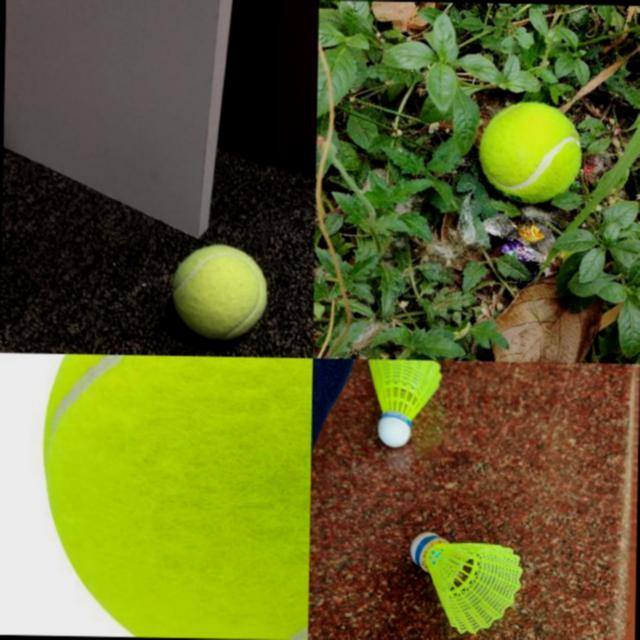Tennis Ball: (38, 353, 312, 639), (477, 101, 581, 202), (170, 242, 268, 340)
